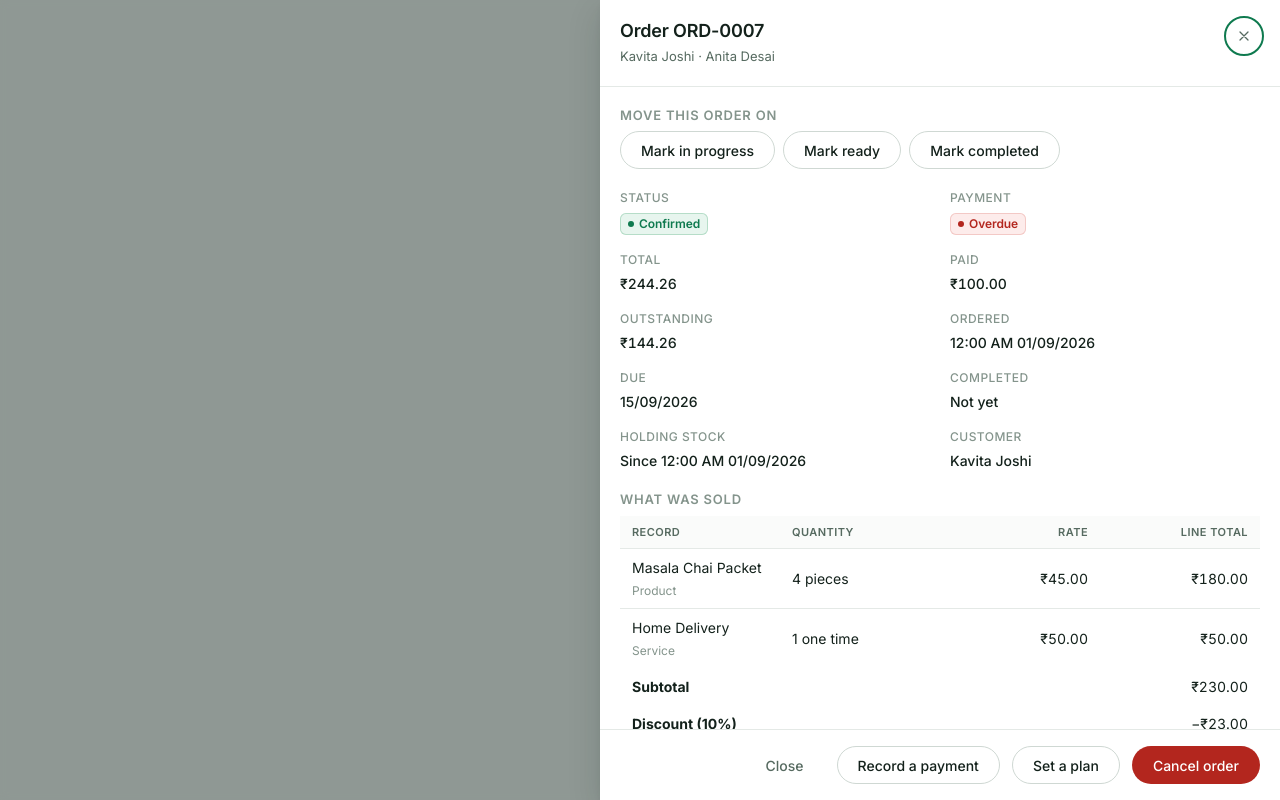
OrderDetailPanel › surfaces the server refusal when a transition is not allowed
This screenshot has width=1280, height=800.
Expected: the text "Masala Chai Packet" is shown, [632,557,768,578]
Click the button "Mark completed".
click(985, 150)  # box [909,131,1060,169]
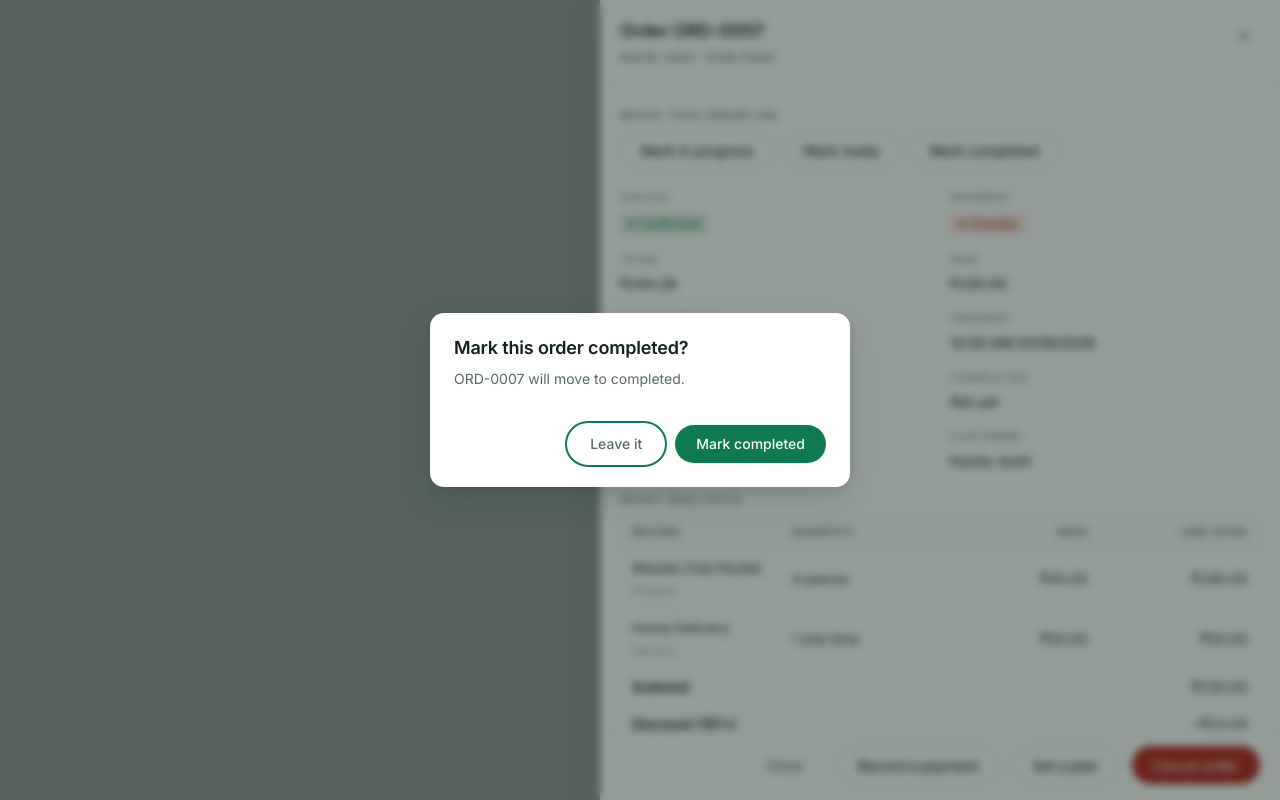
Click the button "Mark completed".
click(751, 444)  # box [675,425,826,463]
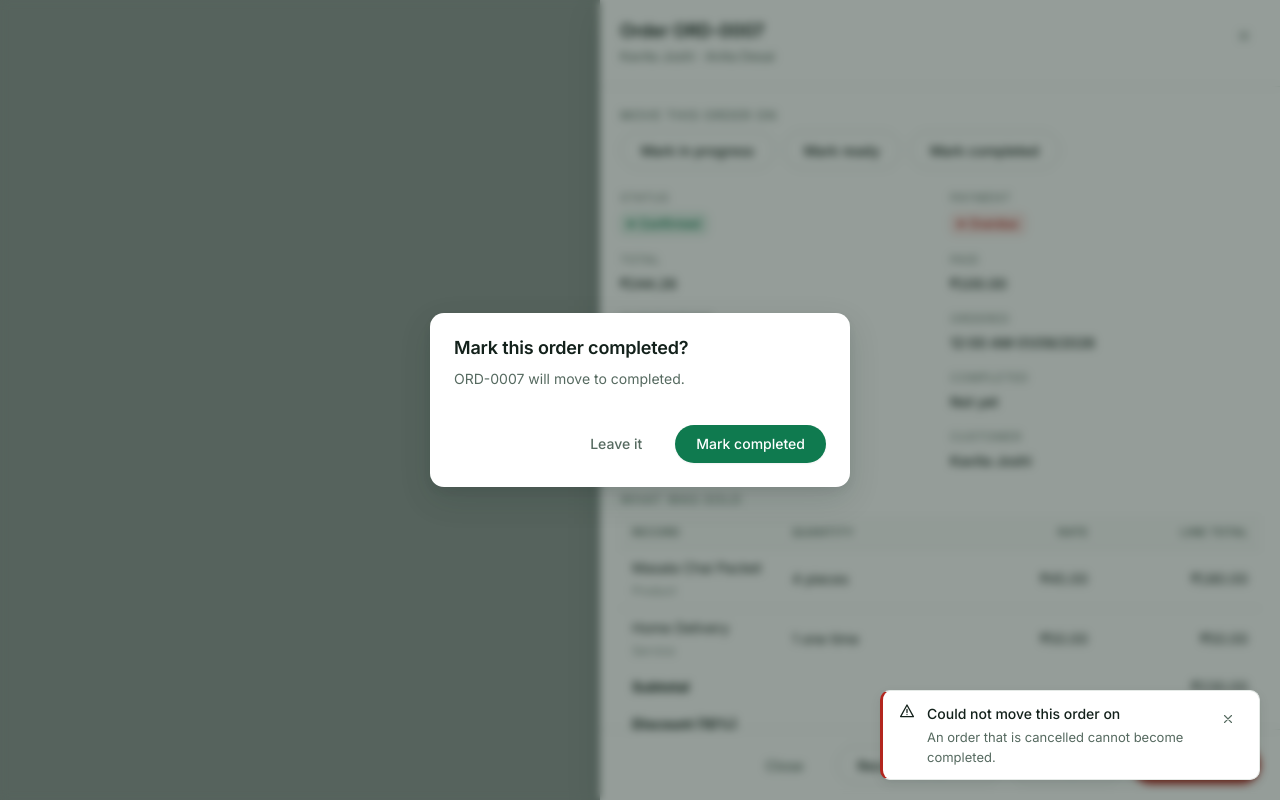
Result: the text "An order that is cancelled cannot become completed." is shown at [927,728,1202,767]
